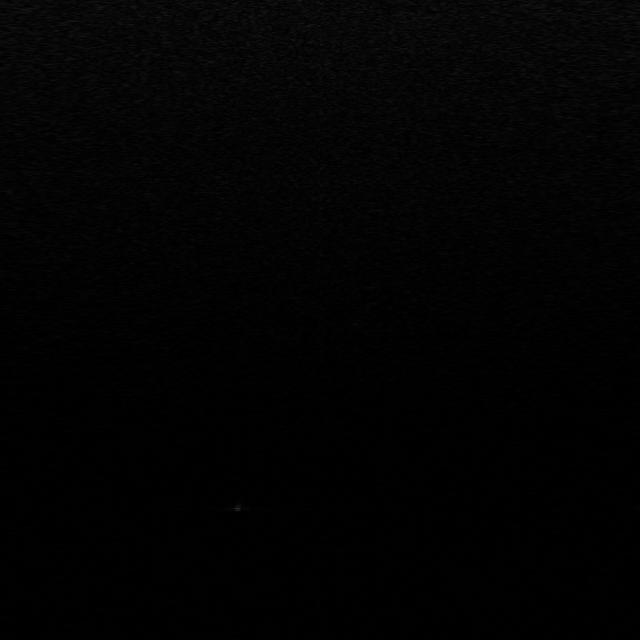ball: (226, 499, 250, 514)
